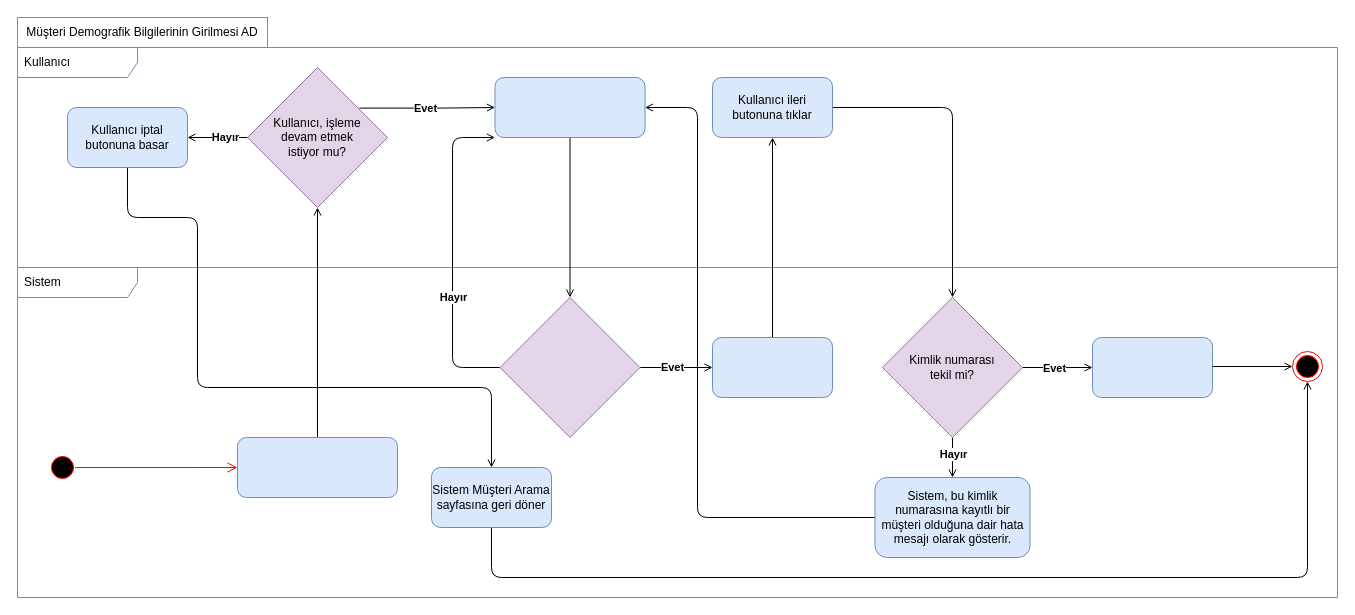
This 1355x615 diagram has some shape labels left out. The shapes that lost their labels are listed below. From the top down, each one's centre as x and y in pixels, then its label:
the point at 569,107: Kullanıcı Demografik Bilgi Ekranında zorunlu bilgileri doldurur
the point at 569,367: Zorunlu alanlar dolduruldu mu?
the point at 772,367: İleri butonu aktif olur
the point at 1152,367: Sistem Adres Bilgi sayfasını açar
the point at 317,467: Sistem Adres Bilgi ekranını açar
